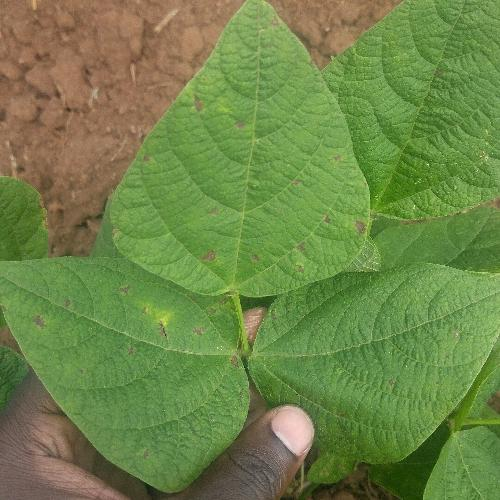hawar: (96, 272, 224, 360), (308, 207, 370, 244)
sehat: (276, 293, 463, 415), (364, 31, 486, 180)
